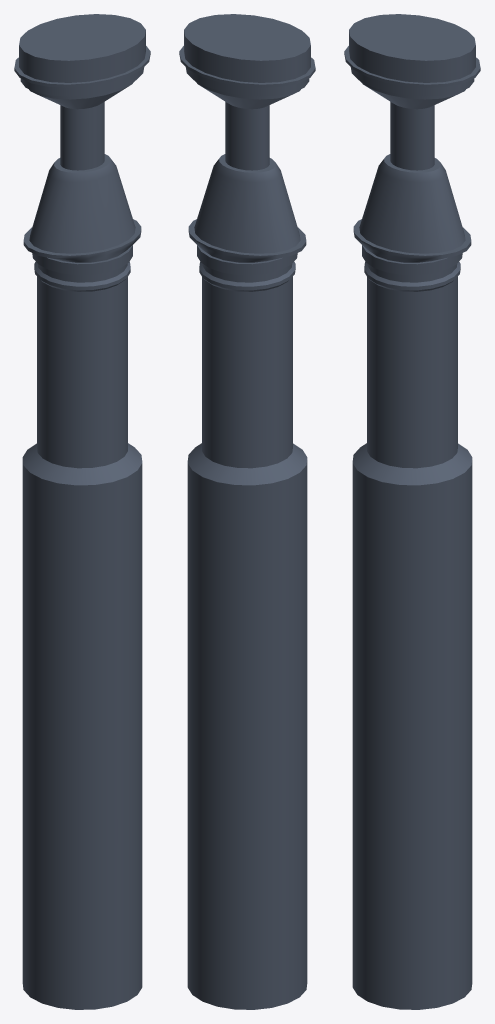
File: Building 4.fbx
3 views of the same model, side by side, from view 1: azimuth 30°, elevation 25°; view 2: azimuth 150°, elevation 25°; view 3: azimuth 330°, elevation 25° (orthographic).
Visible parts, largest first — view 1: pCylinder8; view 2: pCylinder8; view 3: pCylinder8.
Boxes of the visible parts, x1=… form: pCylinder8: x1=14, y1=14, x2=150, y2=1009; pCylinder8: x1=179, y1=14, x2=315, y2=1009; pCylinder8: x1=344, y1=14, x2=480, y2=1009.
Bounding box in the file's own units: 2.63 × 18.95 × 2.19.
